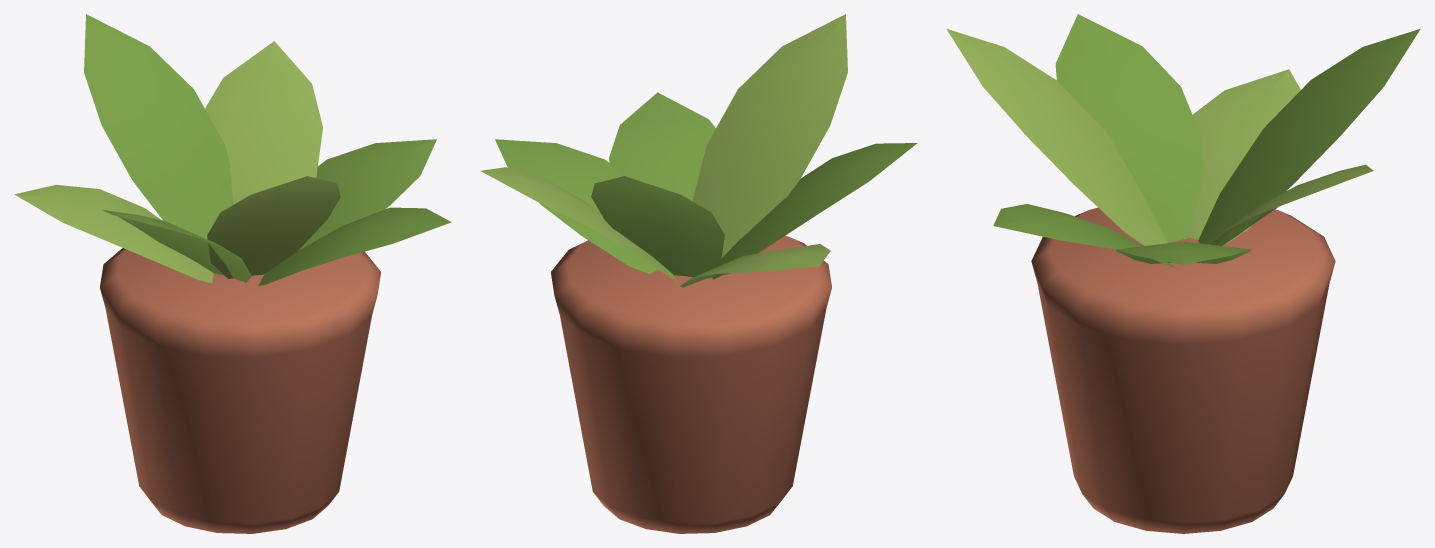
File: potted-plant.glb
3 renders of one model, left to right at view 1: azimuth 30°, elevation 25°; view 2: azimuth 150°, elevation 25°; view 3: azimuth 270°, elevation 25°, orthographic. The views are drawn at different scales.
Parts seen in each view (by area): view 1: potted_plant; view 2: potted_plant; view 3: potted_plant.
Part boxes in pixels (x1=…): potted_plant: x1=14, y1=14, x2=451, y2=533; potted_plant: x1=480, y1=14, x2=917, y2=533; potted_plant: x1=946, y1=14, x2=1420, y2=533.
Size of the model in its own units: 0.7604 by 0.8 by 0.7799.
